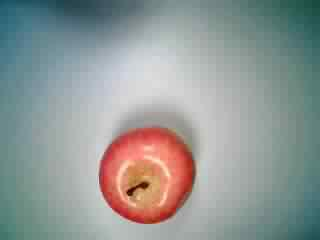apple: (95, 123, 200, 227)
